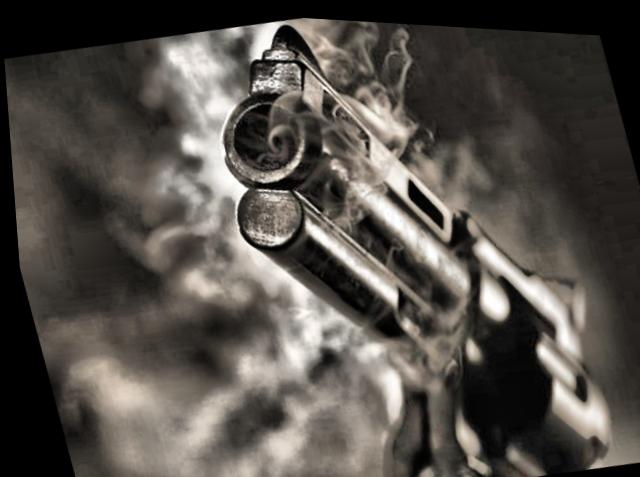pistol: (195, 9, 626, 477)
